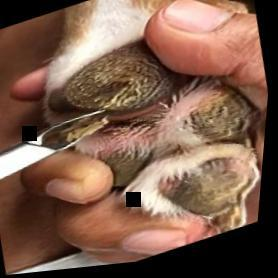keratosis: (55, 38, 175, 134)
